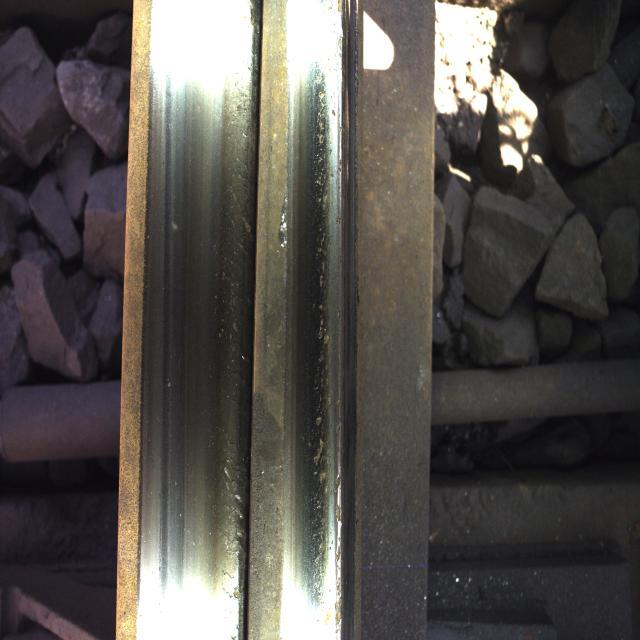normal: (141, 43, 241, 608)
scar: (282, 44, 338, 615)
